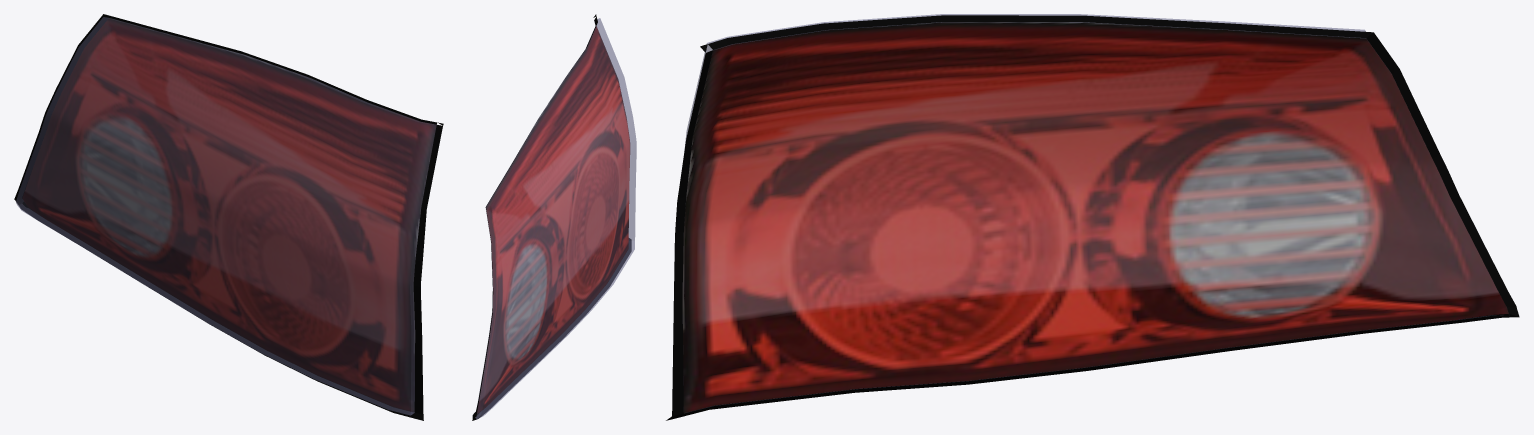
The picture shows the model from 3 angles, left to right: view 1: azimuth 30°, elevation 25°; view 2: azimuth 150°, elevation 25°; view 3: azimuth 270°, elevation 25°; orthographic projection. The views are drawn at different scales.
Visible parts, largest first — view 1: Y613_541D_R_Y613_541D_R_2_DTaSI, Y613_541D_R_1_N_Y613_541D_R, Y613_541D_R_Y613_541D_R_3_D; view 2: Y613_541D_R_Y613_541D_R_2_DTaSI, Y613_541D_R_1_N_Y613_541D_R, Y613_541D_R_Y613_541D_R_3_D; view 3: Y613_541D_R_1_N_Y613_541D_R, Y613_541D_R_Y613_541D_R_3_D, Y613_541D_R_Y613_541D_R_2_DTaSI.
Part boxes in pixels (<box>): Y613_541D_R_Y613_541D_R_2_DTaSI: <box>16,17,436,415</box>; Y613_541D_R_1_N_Y613_541D_R: <box>22,18,436,412</box>; Y613_541D_R_Y613_541D_R_3_D: <box>14,14,443,420</box>; Y613_541D_R_Y613_541D_R_2_DTaSI: <box>475,18,636,418</box>; Y613_541D_R_1_N_Y613_541D_R: <box>477,26,630,413</box>; Y613_541D_R_Y613_541D_R_3_D: <box>472,14,631,420</box>; Y613_541D_R_1_N_Y613_541D_R: <box>682,22,1508,412</box>; Y613_541D_R_Y613_541D_R_3_D: <box>666,15,1519,420</box>; Y613_541D_R_Y613_541D_R_2_DTaSI: <box>685,14,1492,318</box>.
Bounding box in the file's own units: 13.42 × 24.9 × 48.59.
